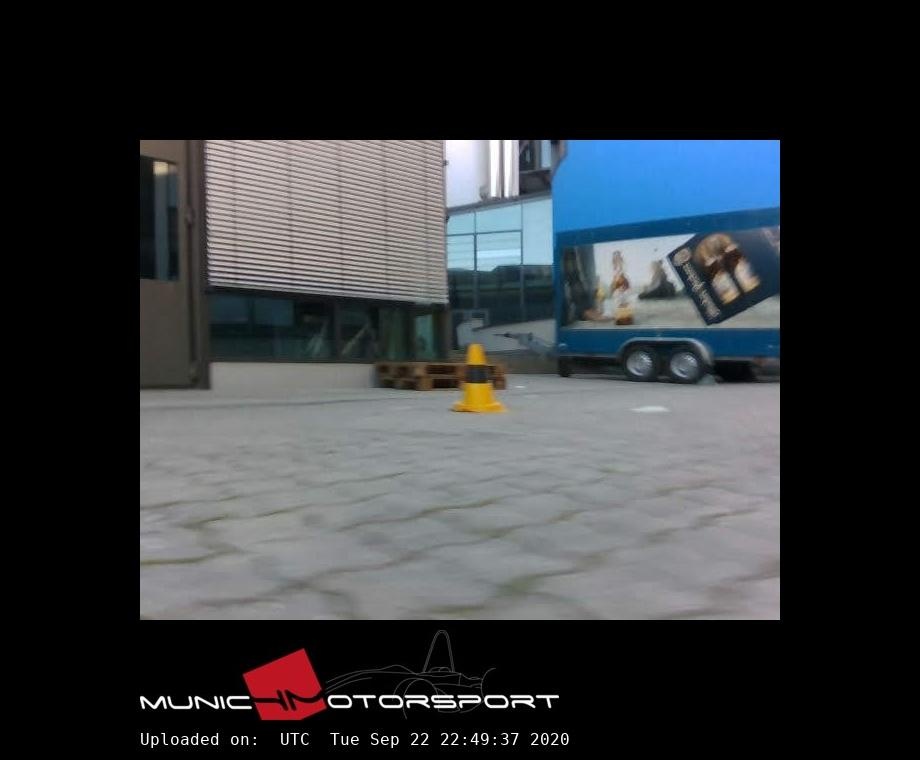yellow_cone: (451, 345, 506, 413)
